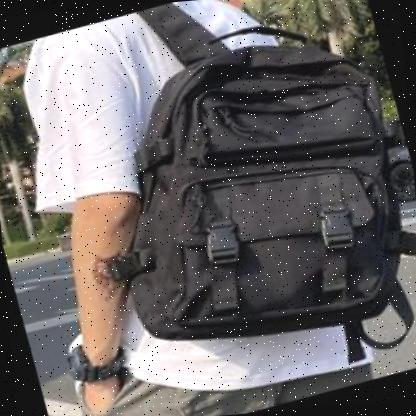bag: (88, 14, 416, 358)
